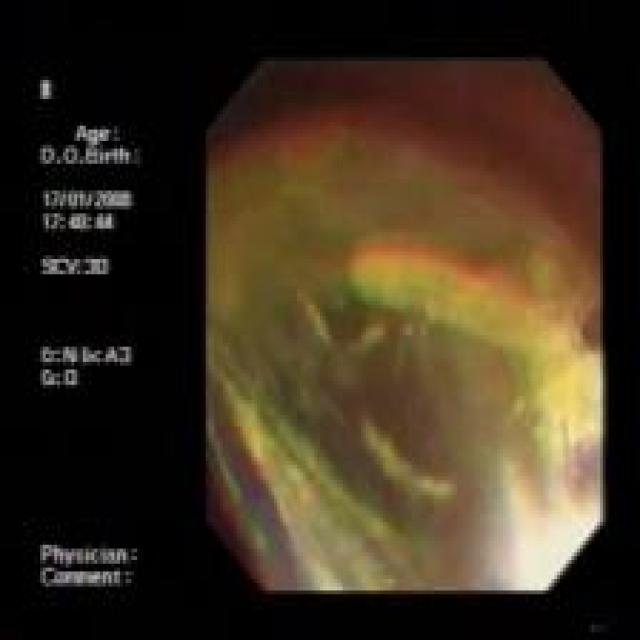color misalignment: (208, 59, 602, 591)
